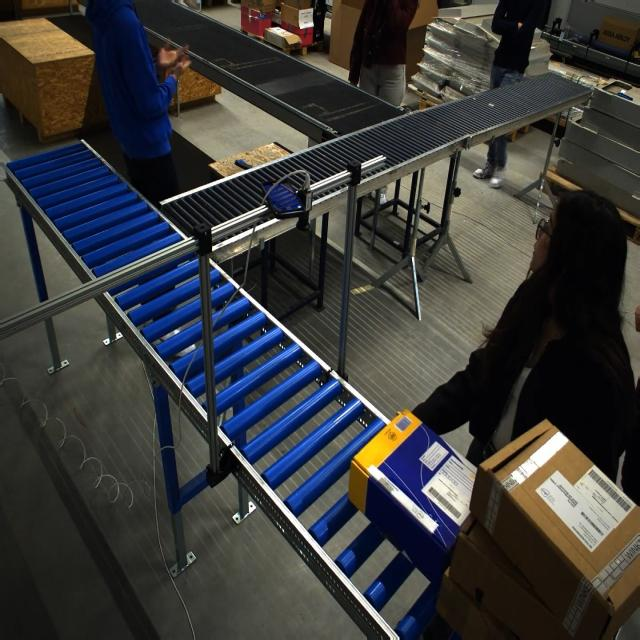box: (436, 426, 640, 639), (355, 412, 473, 580)
